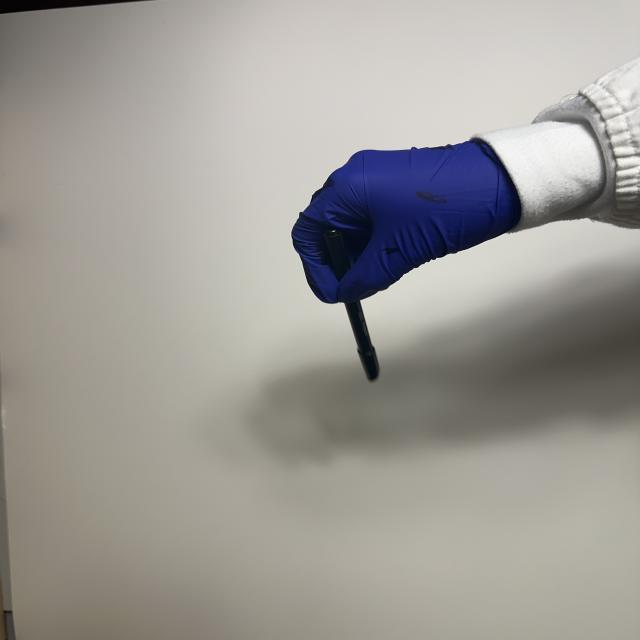gloves_contaminated: (293, 142, 520, 303)
